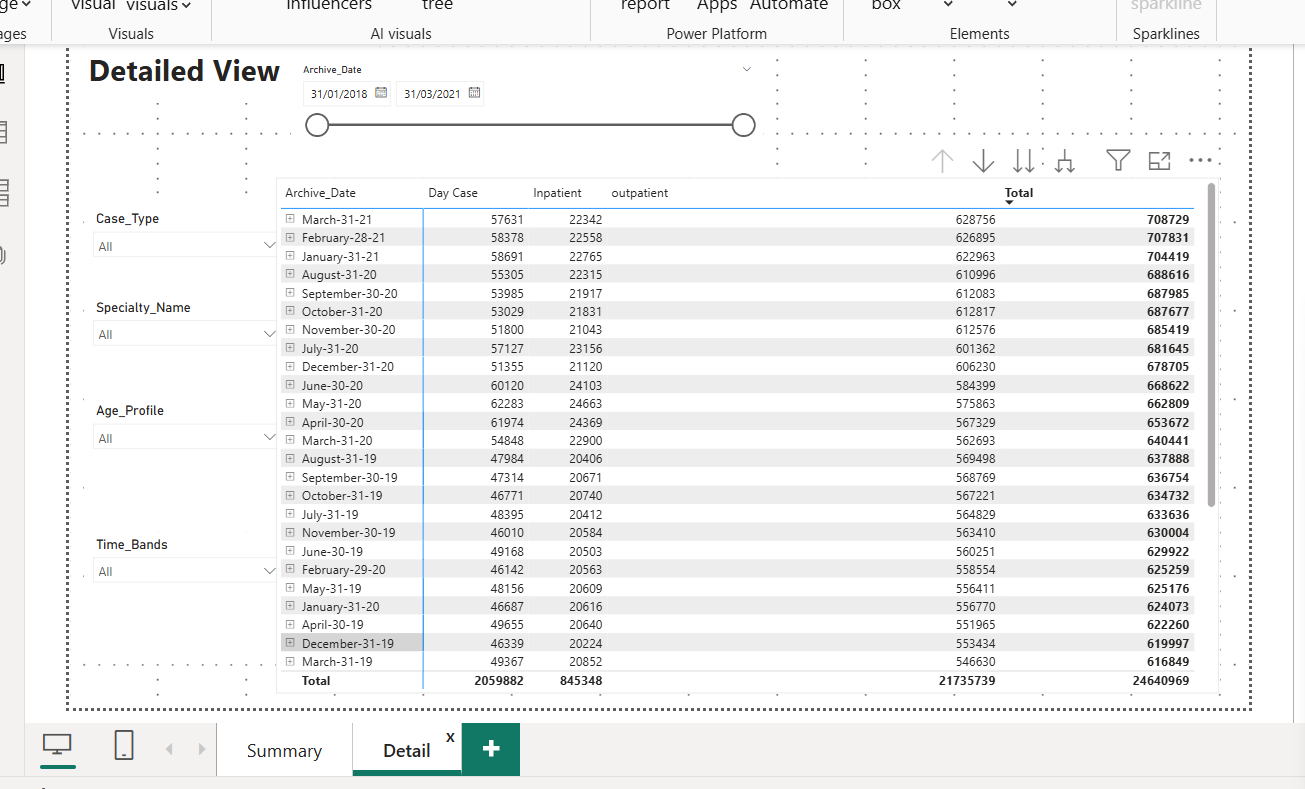

What the dashboard file says about the page in this screenshot:
{"tool":"powerbi","page":{"name":"Detail","canvas":[1280,720],"ordinal":1},"visuals":[{"type":"textbox","box":[16,0,320,64],"z":0},{"type":"slicer","fields":{"Values":["All_Data.Case_Type"]},"box":[16,176,224,96],"z":1},{"type":"slicer","fields":{"Values":["All_Data.Specialty_Name"]},"box":[16,272,224,112],"z":2},{"type":"slicer","fields":{"Values":["All_Data.Age_Profile"]},"box":[16,384,224,144],"z":3},{"type":"slicer","fields":{"Values":["All_Data.Time_Bands"]},"box":[16,528,224,144],"z":4},{"type":"slicer","fields":{"Values":["All_Data.Archive_Date"]},"box":[240,16,512,128],"z":5},{"type":"pivotTable","fields":{"Rows":["All_Data.Archive_Date","All_Data.Specialty_Name","All_Data.Age_Profile","All_Data.Time_Bands"],"Columns":["All_Data.Case_Type"],"Values":["Sum(All_Data.Total)"]},"box":[256,144,1024,560],"z":6}]}

Visuals, with their boxes on the page's 1280x720 design canvas (x1, y1, x2, y2). These are canvas units, not pixel positions in the 1305x789 screenshot, which may show the page scaled, cropped or inside an application window:
textbox: <bbox>16, 0, 336, 64</bbox>
slicer - All_Data.Case_Type: <bbox>16, 176, 240, 272</bbox>
slicer - All_Data.Specialty_Name: <bbox>16, 272, 240, 384</bbox>
slicer - All_Data.Age_Profile: <bbox>16, 384, 240, 528</bbox>
slicer - All_Data.Time_Bands: <bbox>16, 528, 240, 672</bbox>
slicer - All_Data.Archive_Date: <bbox>240, 16, 752, 144</bbox>
pivotTable - All_Data.Archive_Date x All_Data.Specialty_Name: <bbox>256, 144, 1280, 704</bbox>
